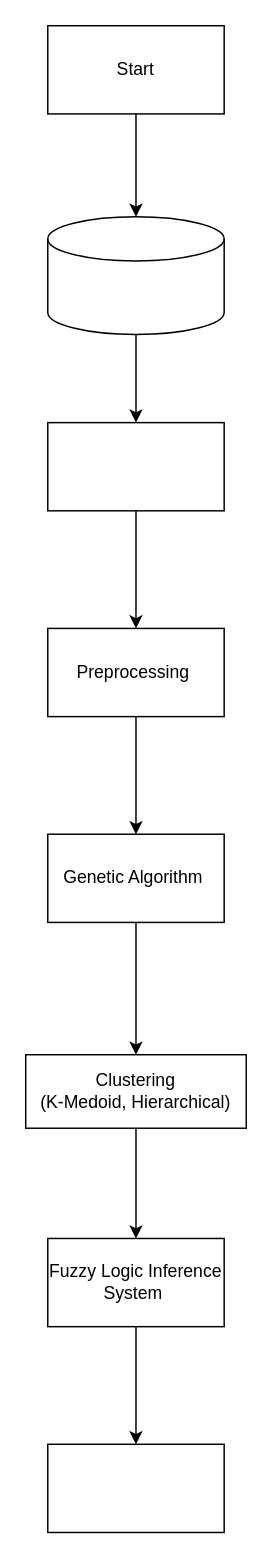
Some shapes in this 272 by 1558 pixel diagram are drawn without their labels. The shapes that lost their labels are listed below. From the top down, each one's box as (x1, y1, x2, y2) in pixels, then its label:
(46, 215, 224, 334): Dataset
(46, 421, 224, 511): EDA
(46, 1443, 224, 1532): System Implementation
